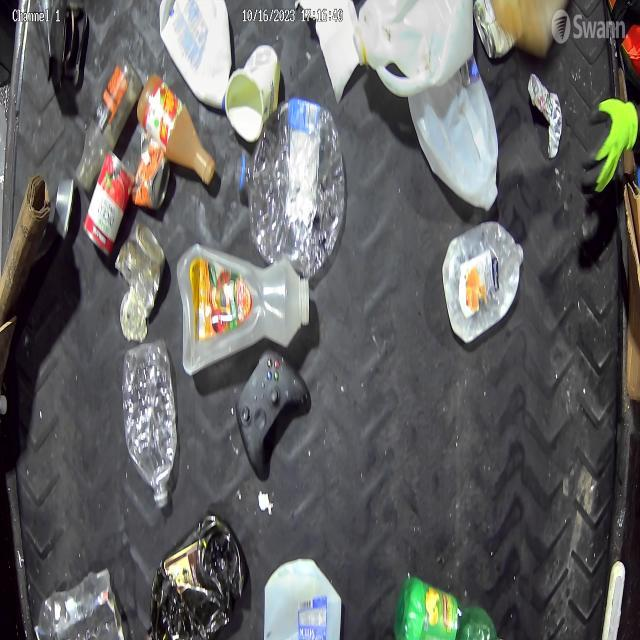can: (82, 150, 134, 263), (118, 224, 164, 346), (134, 126, 174, 230)
milk_jug: (410, 52, 500, 210), (345, 0, 475, 99), (155, 0, 235, 111), (262, 553, 351, 640)
plastic_bottle: (235, 98, 348, 283), (122, 344, 184, 512), (395, 576, 509, 640)
